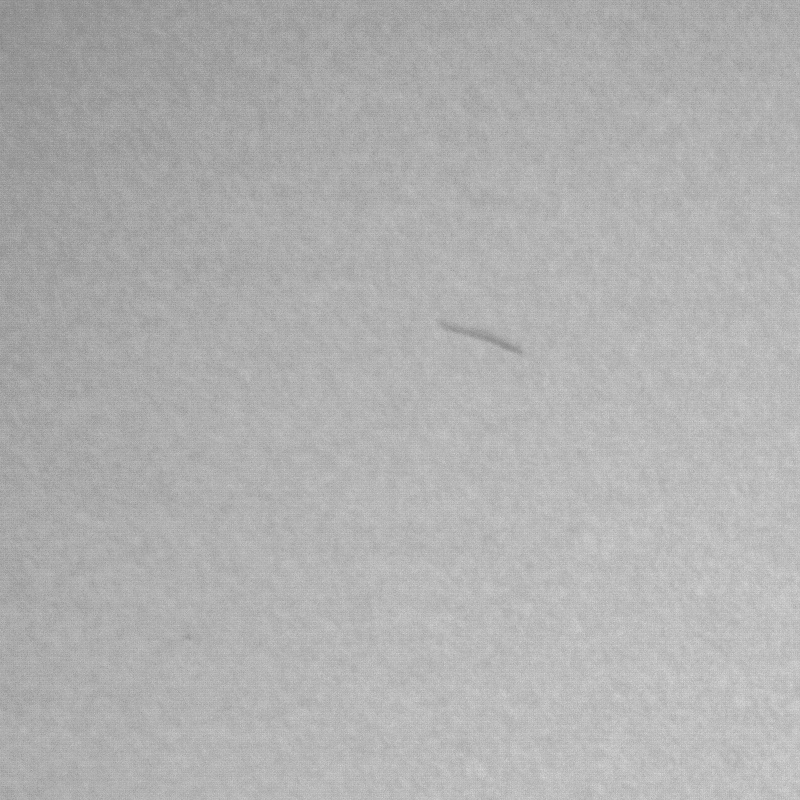defect: (443, 318, 530, 362)
